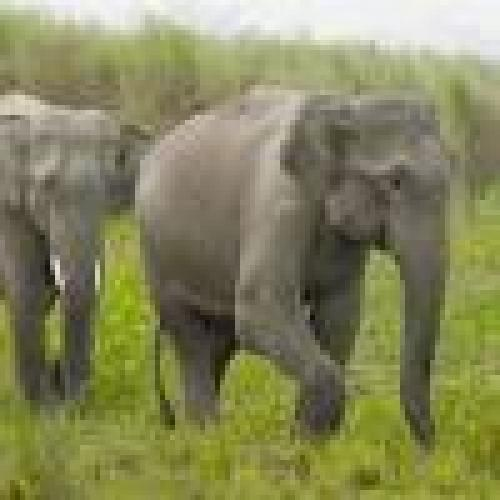asian_elephant-endangered: (139, 89, 449, 444), (0, 92, 160, 407)
